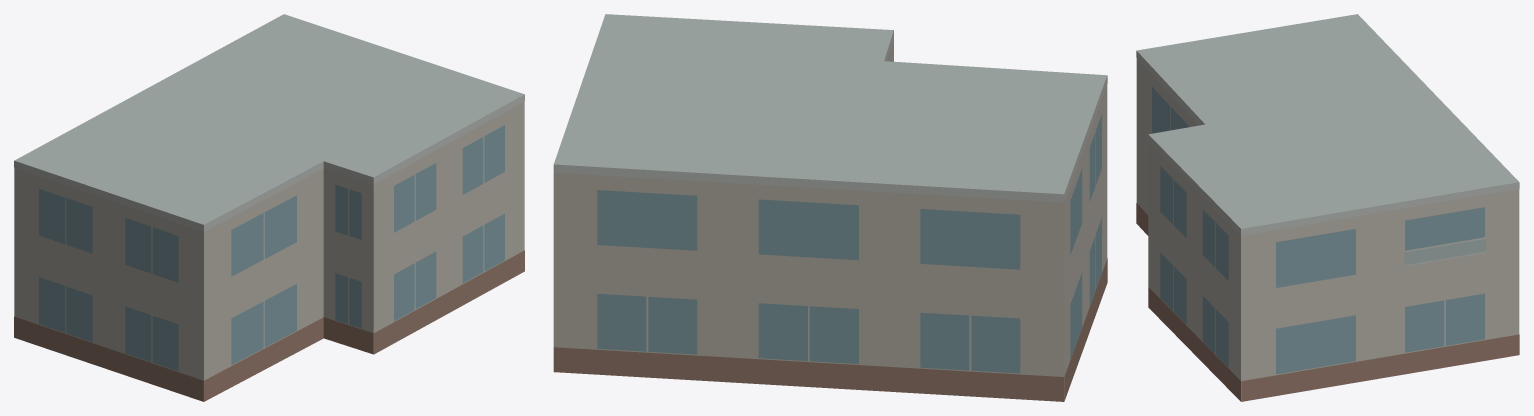
Rendered from survey-upis-32850509.glb.
3 views of the same model, side by side, from view 1: azimuth 30°, elevation 25°; view 2: azimuth 150°, elevation 25°; view 3: azimuth 270°, elevation 25° (orthographic). The views are drawn at different scales.
Visible parts, largest first — view 1: survey-upis-32850509.tmp; view 2: survey-upis-32850509.tmp; view 3: survey-upis-32850509.tmp.
Boxes of the visible parts, bbox=[...] form: survey-upis-32850509.tmp: bbox=[14, 14, 524, 401]; survey-upis-32850509.tmp: bbox=[553, 14, 1107, 401]; survey-upis-32850509.tmp: bbox=[1136, 14, 1519, 401].
Bounding box in the file's own units: 16.27 × 6.1 × 12.26.
